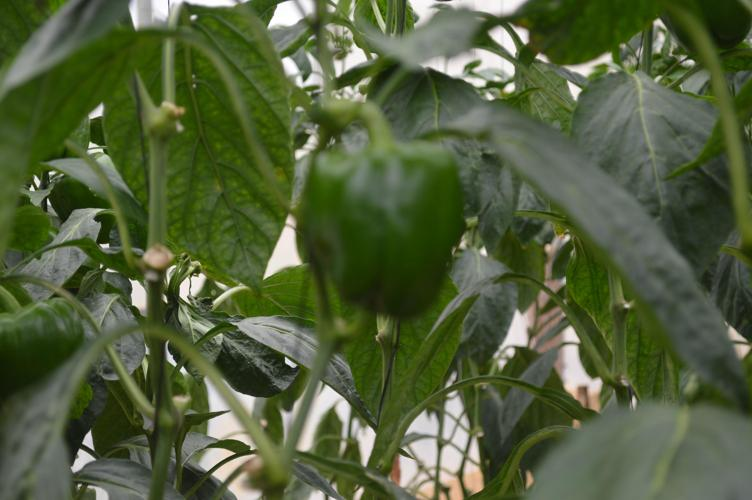BellPepper: (299, 145, 457, 317), (3, 301, 79, 376)
